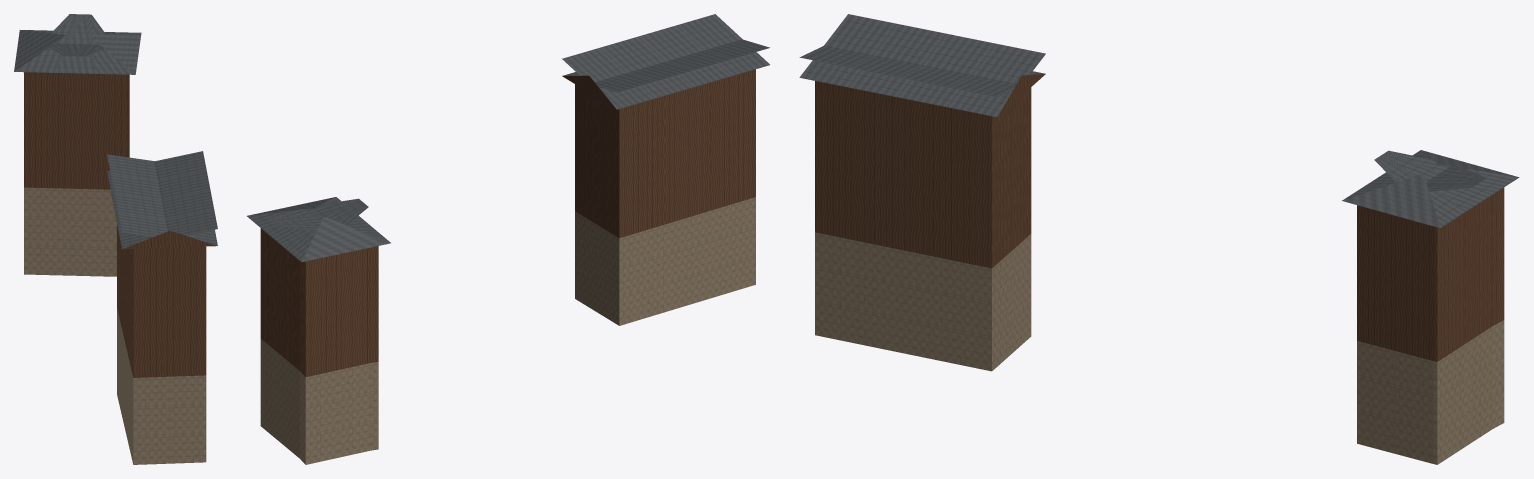
The model's file is bld_c11_28_398.gltf.
3 renders of one model, left to right at view 1: azimuth 30°, elevation 25°; view 2: azimuth 150°, elevation 25°; view 3: azimuth 270°, elevation 25°, orthographic. The views are drawn at different scales.
Parts seen in each view (by area): view 1: bld_c11_28_398; view 2: bld_c11_28_398; view 3: bld_c11_28_398.
Part boxes in pixels (bbox=[...]): bld_c11_28_398: bbox=[14, 14, 217, 464]; bld_c11_28_398: bbox=[247, 14, 769, 464]; bld_c11_28_398: bbox=[799, 14, 1519, 464].
Size of the model in its own units: 16.56 by 15 by 32.35.
4 materials, 4 textured.
